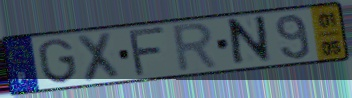9: (273, 13, 313, 62)
F: (128, 25, 169, 79)
G: (36, 36, 80, 85)
N: (228, 13, 273, 70)
R: (171, 20, 222, 75)
X: (75, 30, 122, 85)
